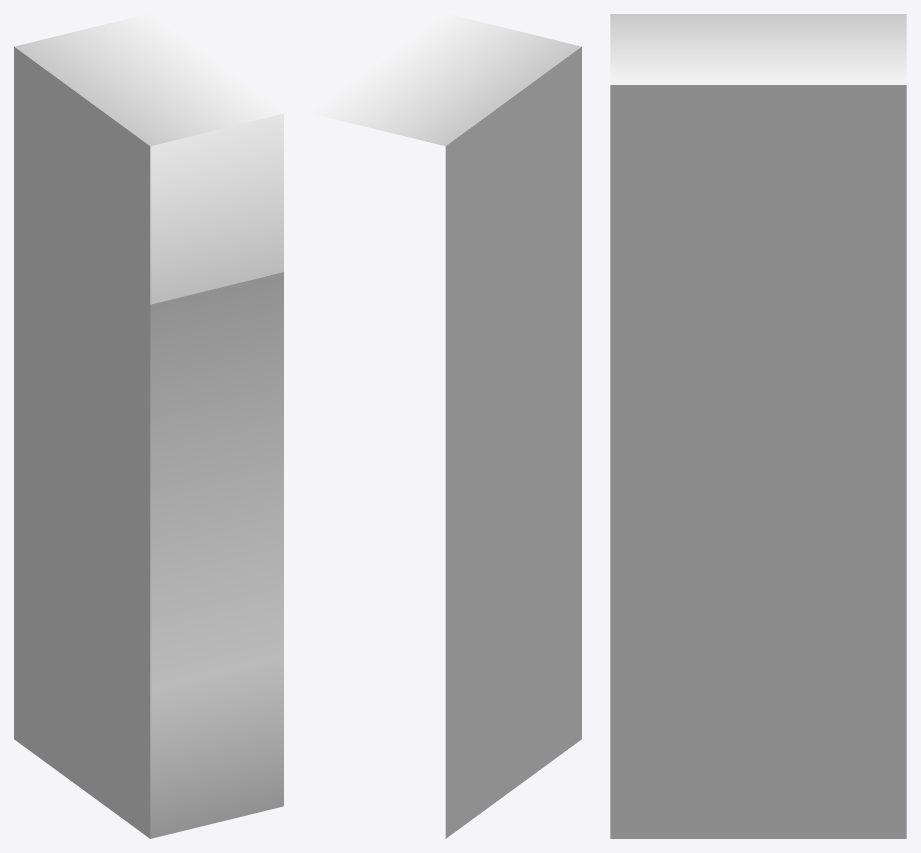
3 views of the same model, side by side, from view 1: azimuth 30°, elevation 25°; view 2: azimuth 150°, elevation 25°; view 3: azimuth 270°, elevation 25° (orthographic). The views are drawn at different scales.
Size of the model in its own units: 0.25 by 1.24 by 0.4414.
Materials: 1 (1 with a texture image).
